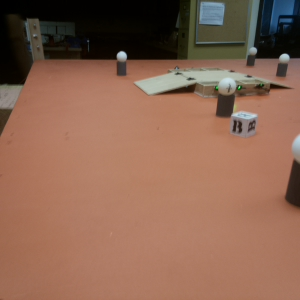blockB: (230, 112, 258, 137)
corner: (25, 16, 46, 63)
obstacle: (286, 132, 300, 206), (217, 77, 237, 111), (275, 53, 291, 77), (116, 50, 127, 77), (245, 47, 259, 66)
side: (237, 78, 271, 97)
slope: (135, 73, 196, 95)
